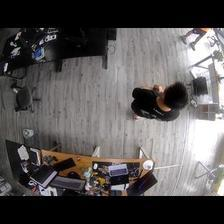normal: (131, 80, 187, 123)
